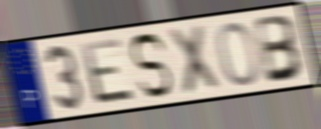3: (44, 42, 84, 113)
B: (253, 13, 306, 86)
E: (78, 36, 138, 108)
O: (215, 20, 261, 88)
S: (128, 31, 174, 100)
X: (166, 22, 223, 98)
